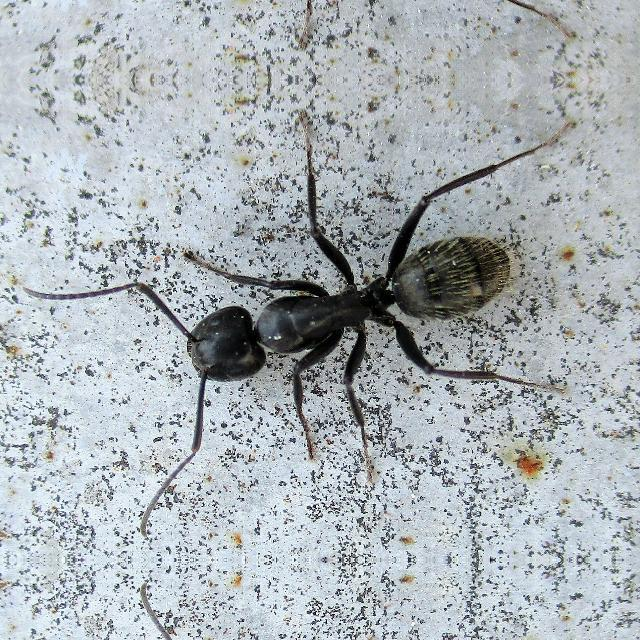Camponotus: (157, 206, 548, 447)
